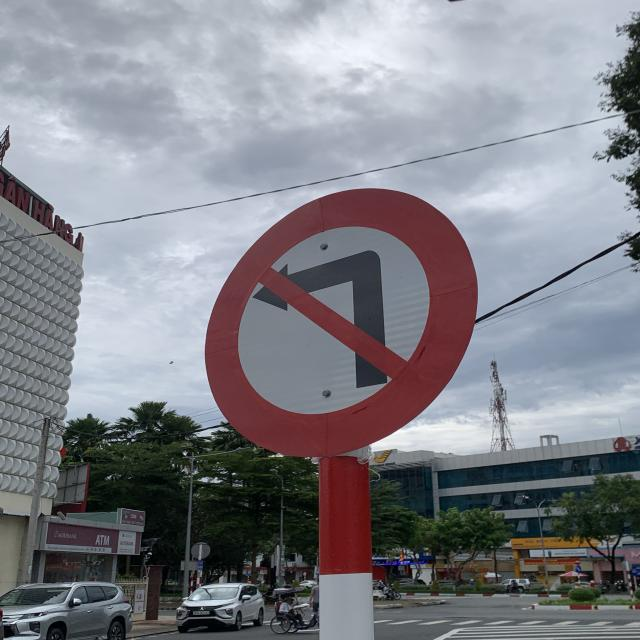Cam_Re_Trai: (201, 186, 479, 457)
